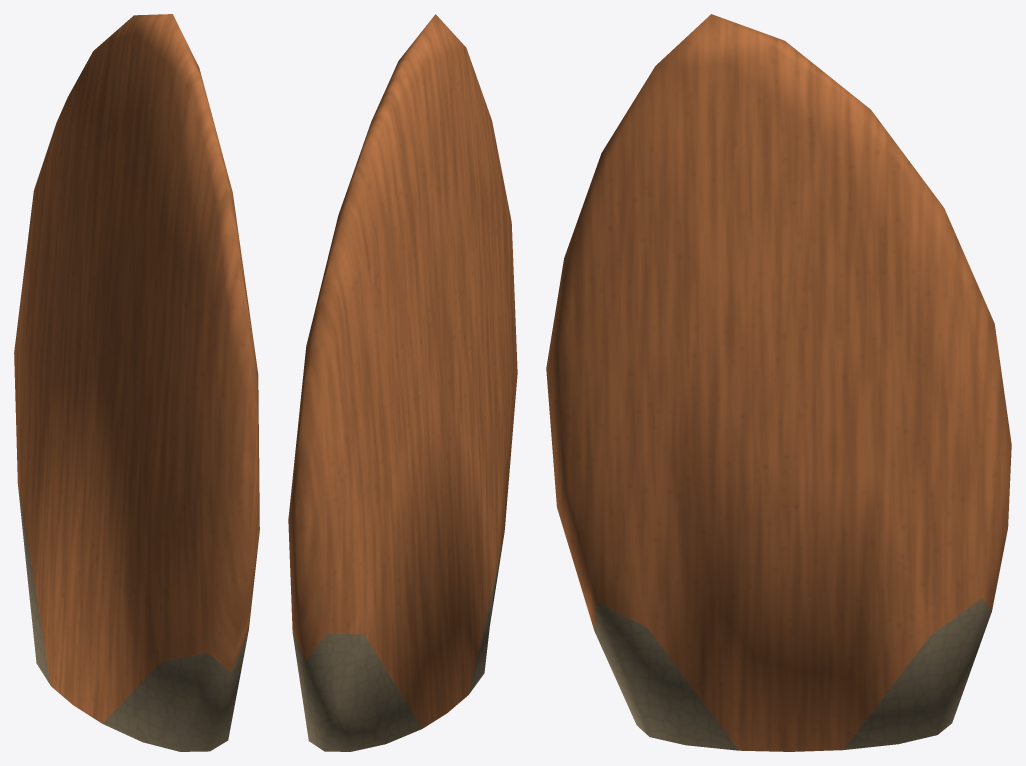
The model's file is cpart_back_plate.glb.
The picture shows the model from 3 angles, left to right: view 1: azimuth 30°, elevation 25°; view 2: azimuth 150°, elevation 25°; view 3: azimuth 270°, elevation 25°; orthographic projection. The views are drawn at different scales.
Visible parts, largest first — view 1: BackPlate; view 2: BackPlate; view 3: BackPlate.
Boxes of the visible parts, x1,y1,x2,y2 form: BackPlate: (14, 14, 259, 751); BackPlate: (288, 14, 517, 751); BackPlate: (546, 14, 1011, 751).
Size of the model in its own units: 0.0348 by 0.2102 by 0.1247.
Materials: 2 (2 with a texture image).
